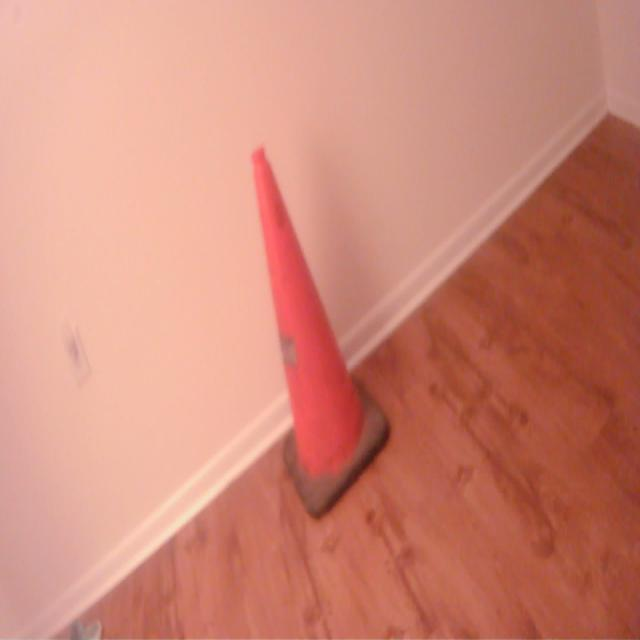traffic cone: (247, 137, 395, 525)
